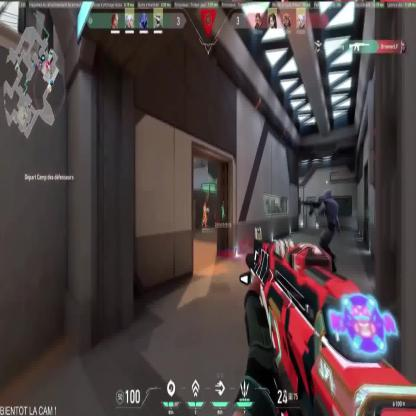enemy: (201, 201, 208, 228)
enemy_head: (204, 202, 206, 208)
